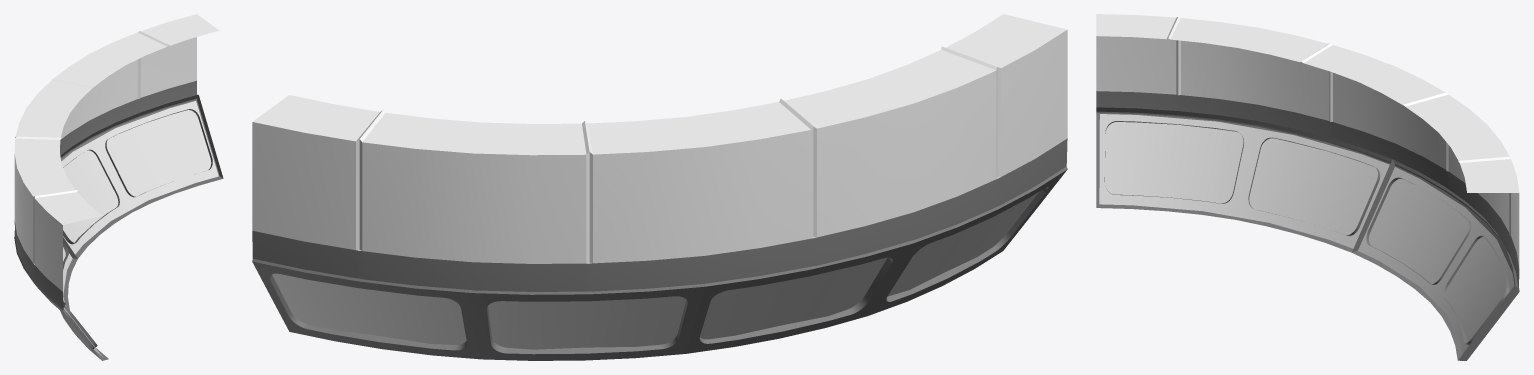
Rendered from q-scifi-mod-topwindow-corner-curve-outer.glb.
3 views of the same model, side by side, from view 1: azimuth 30°, elevation 25°; view 2: azimuth 150°, elevation 25°; view 3: azimuth 270°, elevation 25° (orthographic). The views are drawn at different scales.
Visible parts, largest first — view 1: TopWindow_Corner_Curve_Outer; view 2: TopWindow_Corner_Curve_Outer; view 3: TopWindow_Corner_Curve_Outer.
Part boxes in pixels (x1,y1,x2,y2): TopWindow_Corner_Curve_Outer: [14, 14, 223, 360]; TopWindow_Corner_Curve_Outer: [252, 14, 1067, 360]; TopWindow_Corner_Curve_Outer: [1096, 14, 1519, 360].
Bounding box in the file's own units: 4.57 × 2.02 × 4.57.
Materials: 4 (2 with a texture image).
